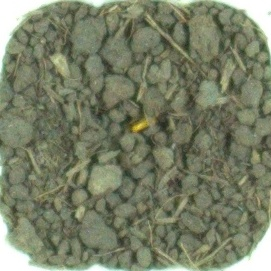chilli seed: (127, 113, 157, 134)
